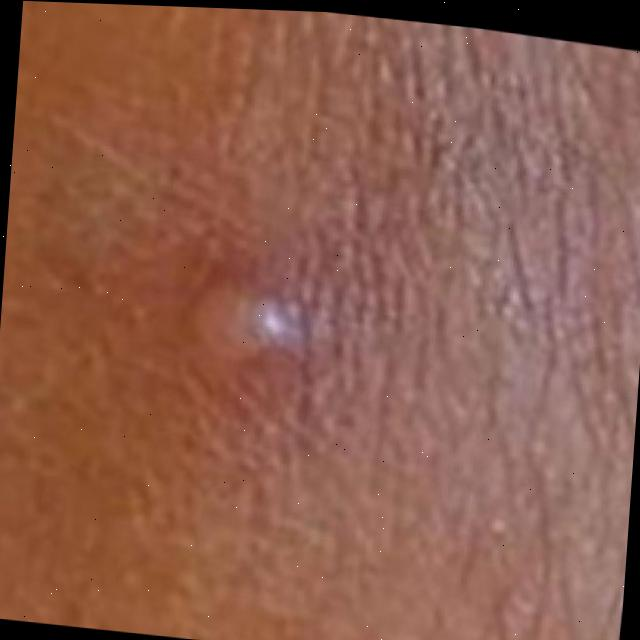Eczema: (170, 266, 300, 415)
